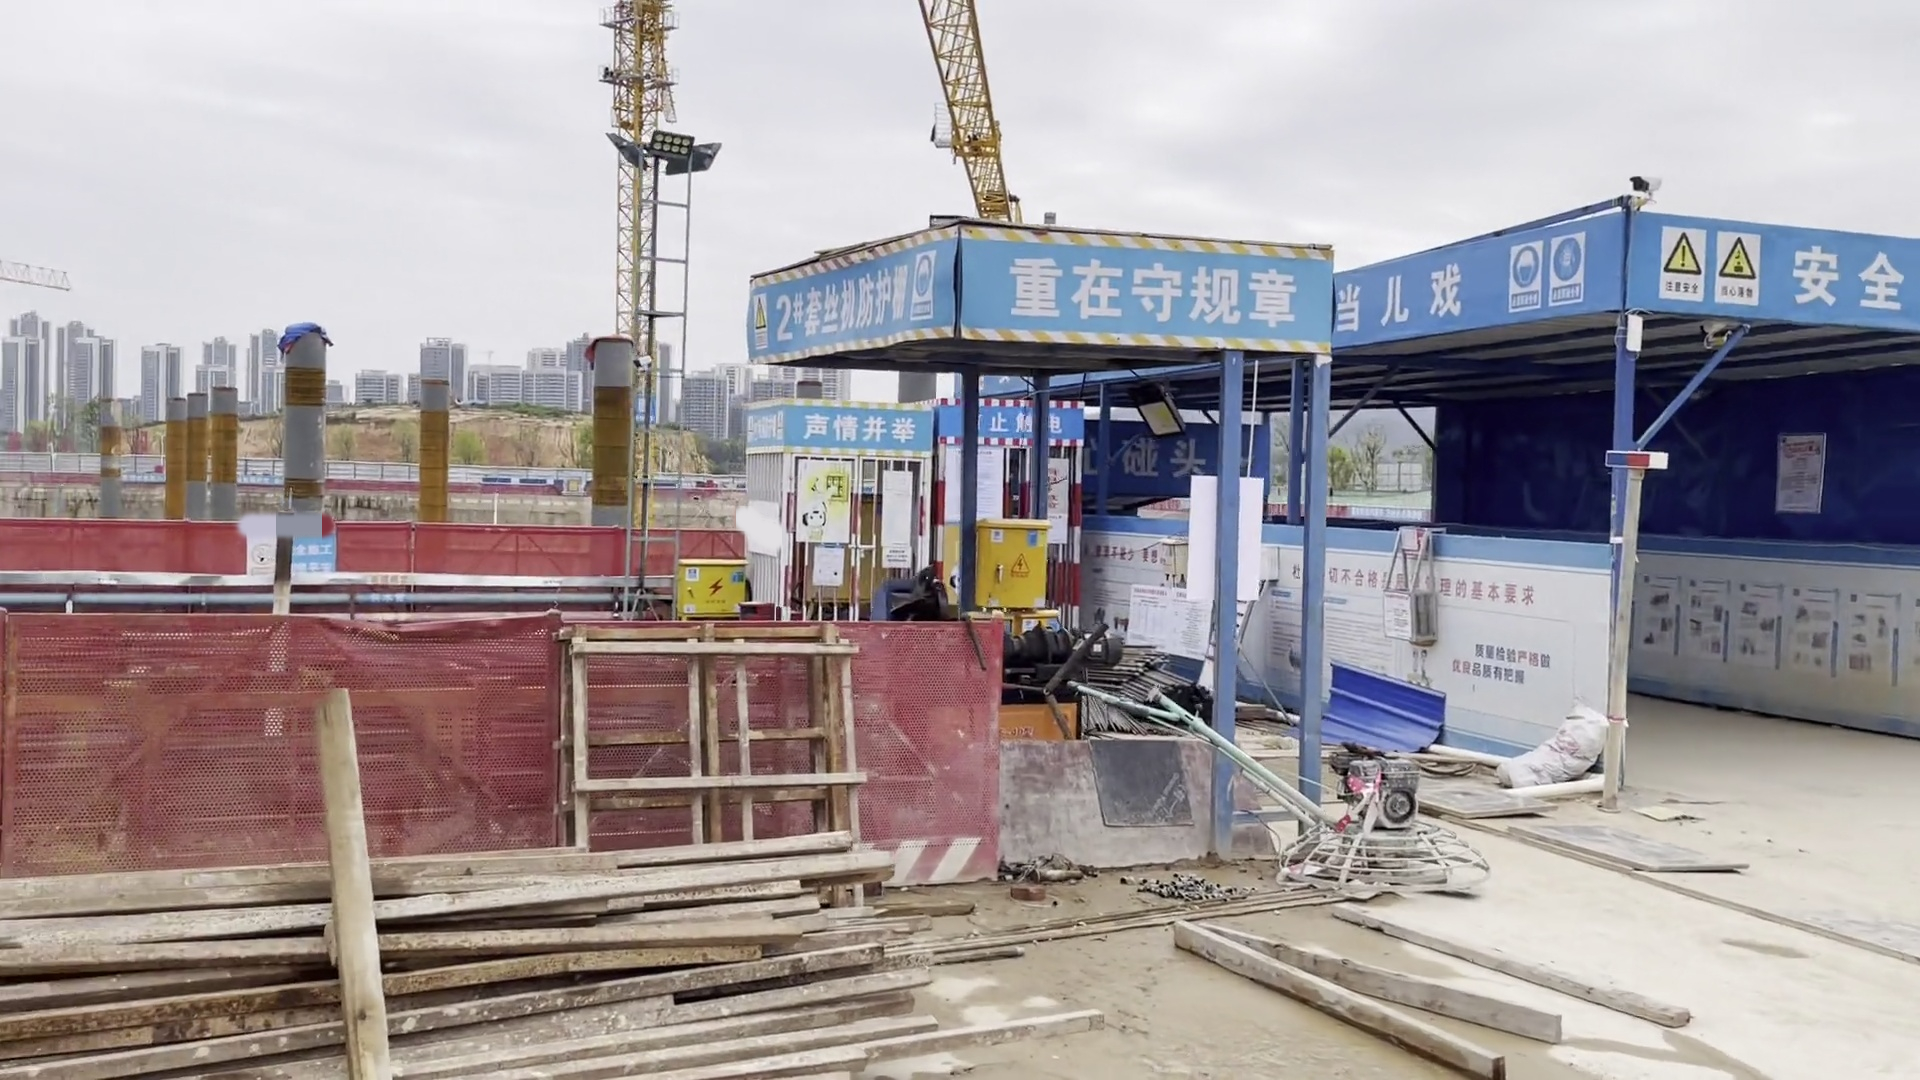ebox: (953, 512, 1056, 616), (671, 553, 752, 629)
fence: (12, 596, 1007, 887), (12, 524, 741, 585)
slogan: (769, 247, 1304, 340), (1660, 222, 1917, 340), (1341, 233, 1619, 340), (756, 401, 1091, 455)
wood: (7, 876, 923, 1080)
